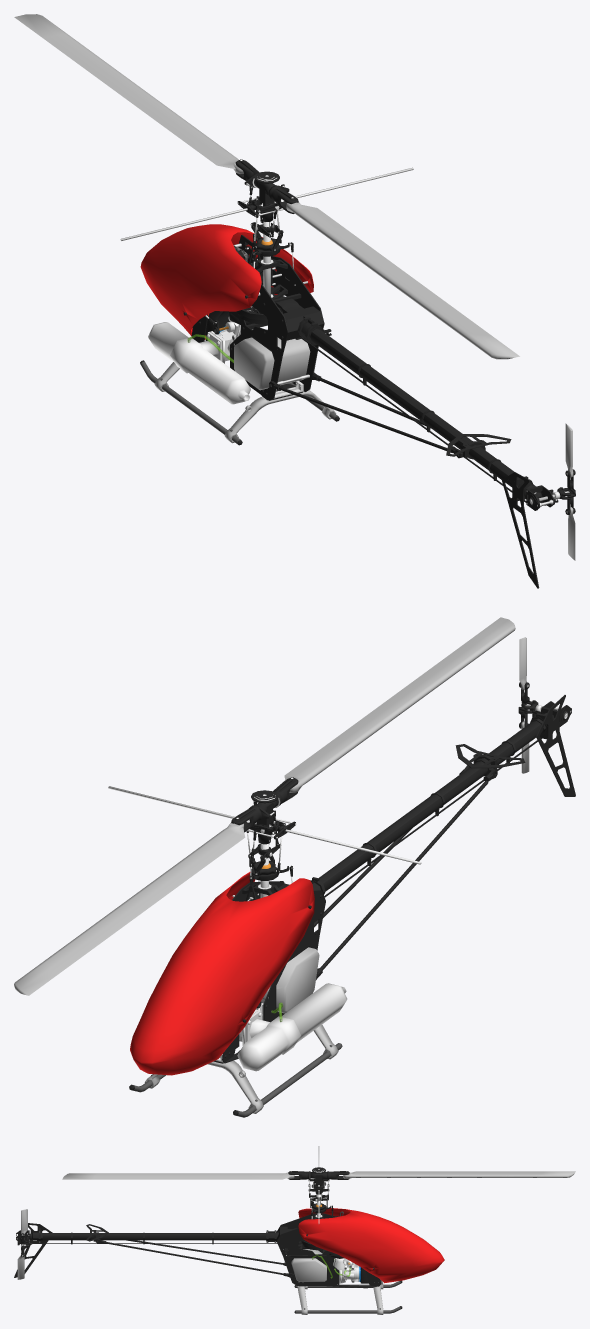
File: helicopter.glb
3 renders of one model, top to bottom at view 1: azimuth 30°, elevation 25°; view 2: azimuth 150°, elevation 25°; view 3: azimuth 270°, elevation 25°, orthographic. The views are drawn at different scales.
Visible parts, largest first — view 1: Heli, Rotor, canopy, Tail; view 2: Heli, canopy, Rotor, Tail; view 3: Heli, canopy, Rotor, Tail.
Boxes of the visible parts, x1,y1,x2,y2 form: Heli: (140, 233, 560, 588); Rotor: (14, 14, 519, 359); canopy: (140, 224, 313, 339); Tail: (530, 423, 575, 560); Heli: (129, 695, 575, 1117); canopy: (130, 872, 314, 1075); Rotor: (14, 617, 515, 995); Tail: (518, 637, 567, 773); Heli: (14, 1201, 402, 1314); canopy: (298, 1208, 444, 1283); Rotor: (62, 1146, 575, 1223); Tail: (17, 1209, 27, 1279).
Bounding box in the file's own units: 0.6205 × 0.4938 × 1.91.
